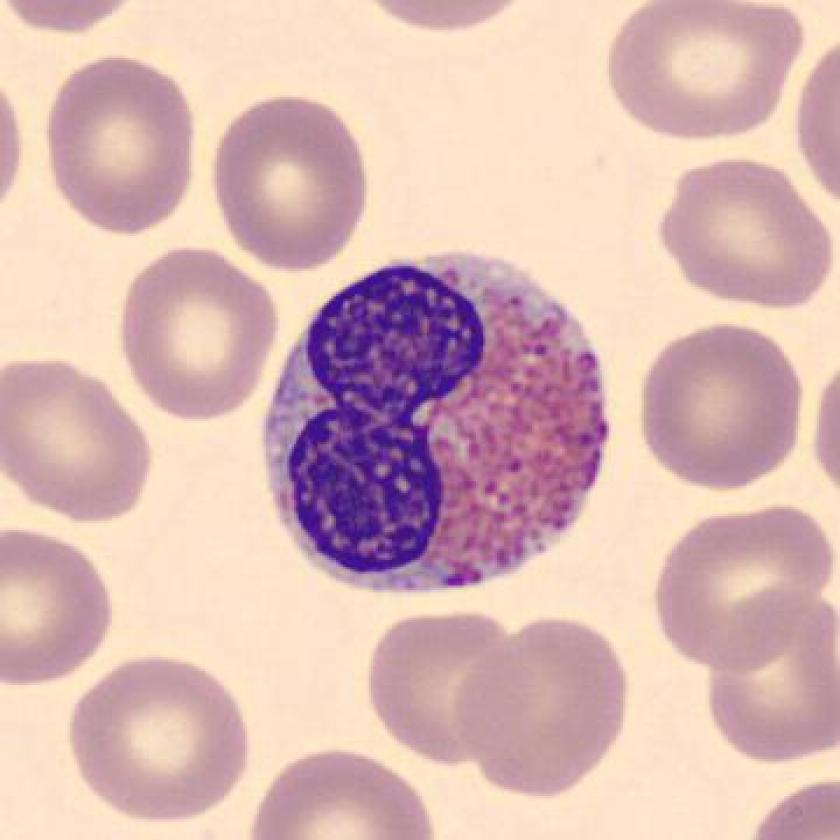eosinophil: (244, 235, 615, 610)
